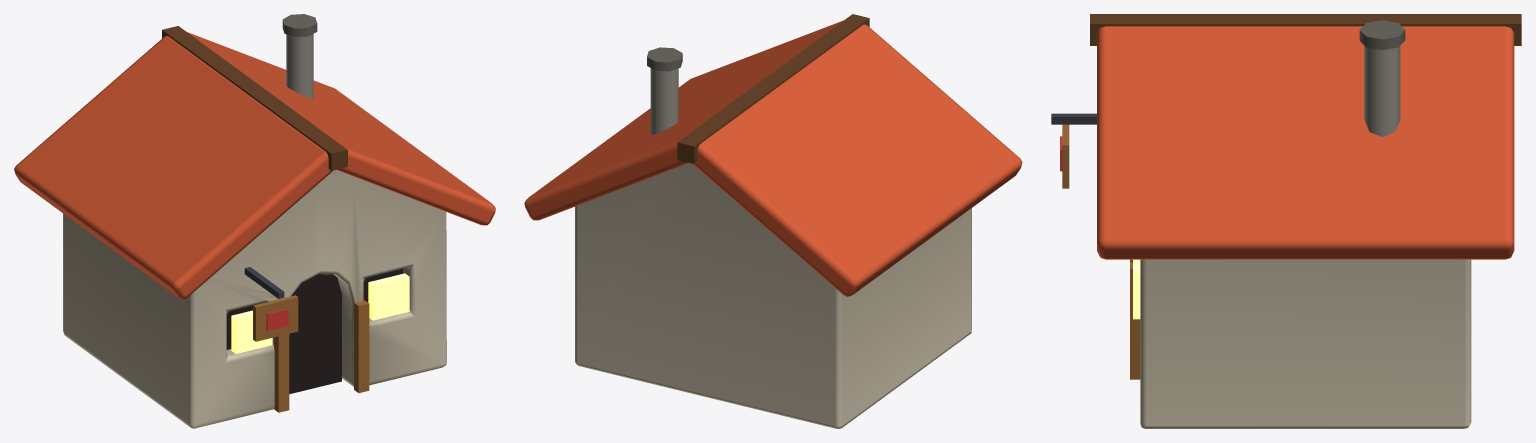
The model's file is Buildings__tavern.glb.
The picture shows the model from 3 angles, left to right: view 1: azimuth 30°, elevation 25°; view 2: azimuth 150°, elevation 25°; view 3: azimuth 270°, elevation 25°; orthographic projection. The views are drawn at different scales.
Parts seen in each view (by area): view 1: tavern_mesh; view 2: tavern_mesh; view 3: tavern_mesh.
Part boxes in pixels (box(x1,y1,x2,y2)): tavern_mesh: box(14, 14, 495, 428); tavern_mesh: box(524, 14, 1022, 428); tavern_mesh: box(1051, 14, 1521, 428).
Bounding box in the file's own units: 1.98 × 1.69 × 1.96.
